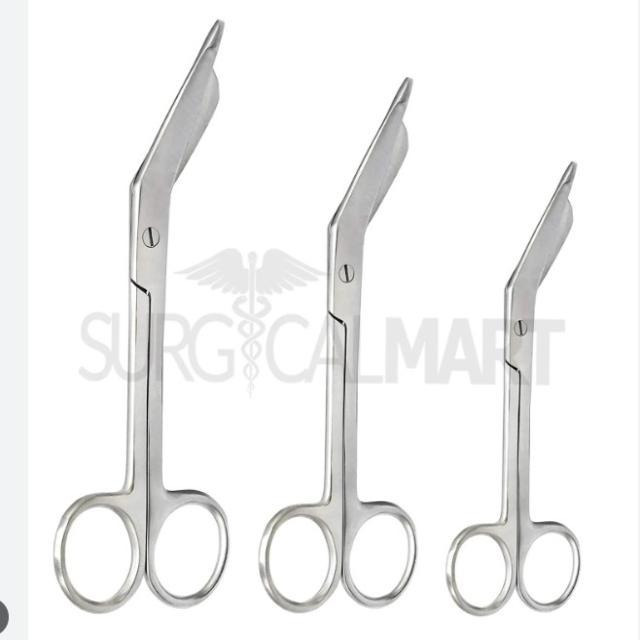Bandage Sciccors: (48, 6, 232, 618), (257, 71, 421, 614), (442, 154, 585, 619)
